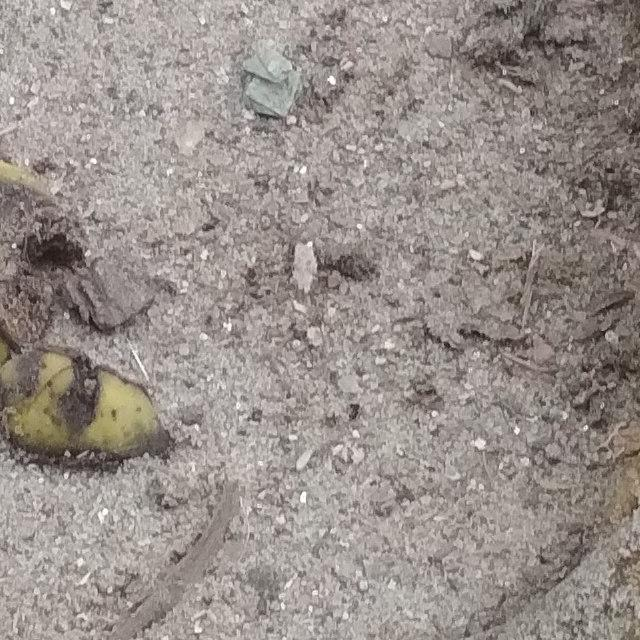food_waste: (220, 0, 640, 640), (0, 0, 246, 640)
